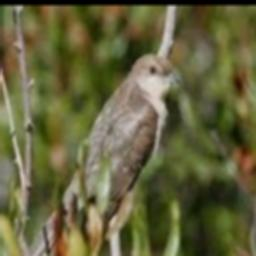Cuckoo: (8, 53, 182, 256)
